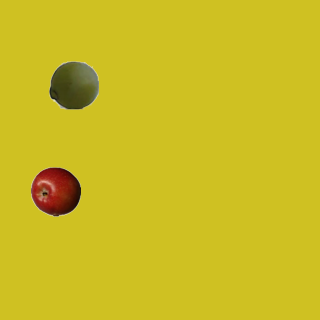Apple Braeburn: (30, 166, 80, 216)
Grape White 4: (48, 59, 98, 109)
